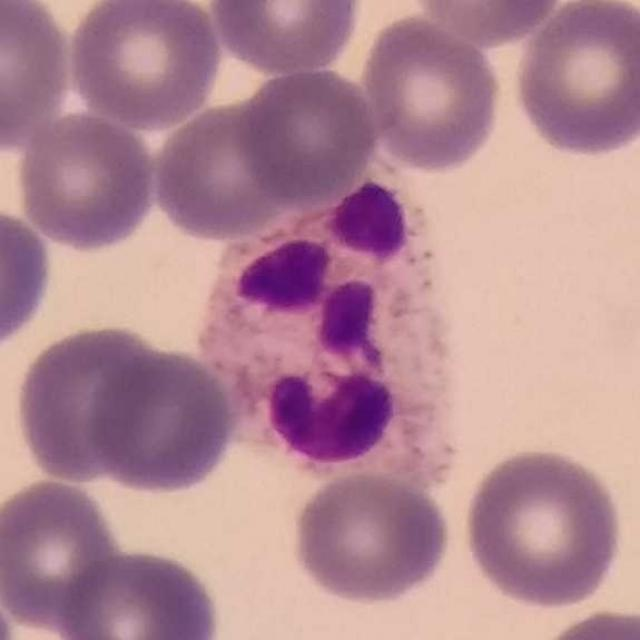Neutrophil: (195, 148, 462, 490)
RBC: (458, 443, 628, 612), (10, 319, 170, 486), (356, 9, 505, 175), (83, 344, 240, 496), (148, 94, 307, 243), (288, 468, 456, 608), (12, 108, 160, 254), (64, 0, 224, 131), (235, 63, 381, 205), (510, 0, 639, 160), (0, 474, 125, 635), (57, 544, 225, 640), (207, 0, 366, 77), (0, 0, 75, 152), (0, 203, 57, 357), (408, 0, 566, 45), (525, 604, 640, 640)
